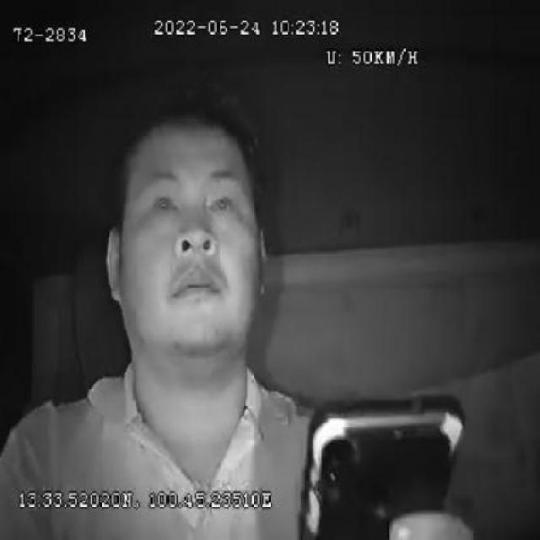phone: (297, 391, 466, 540)
